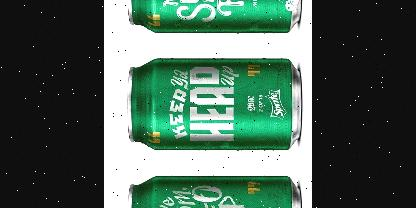Can: (128, 58, 301, 149), (128, 176, 301, 208), (128, 0, 301, 32)
